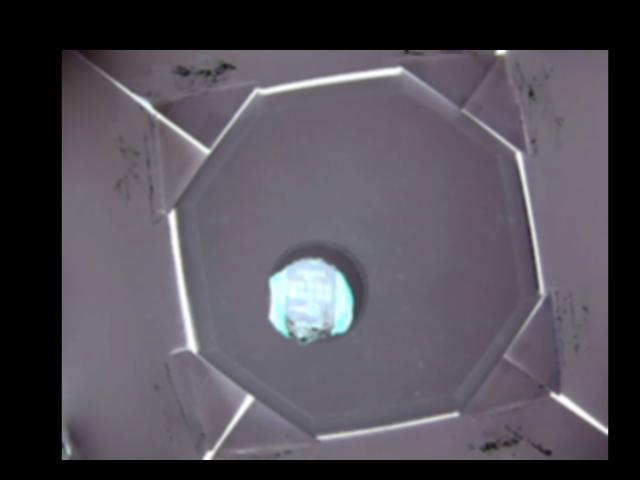Bottle: (266, 239, 370, 344)
